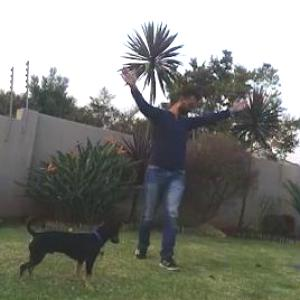takeoff: (122, 59, 266, 251)
